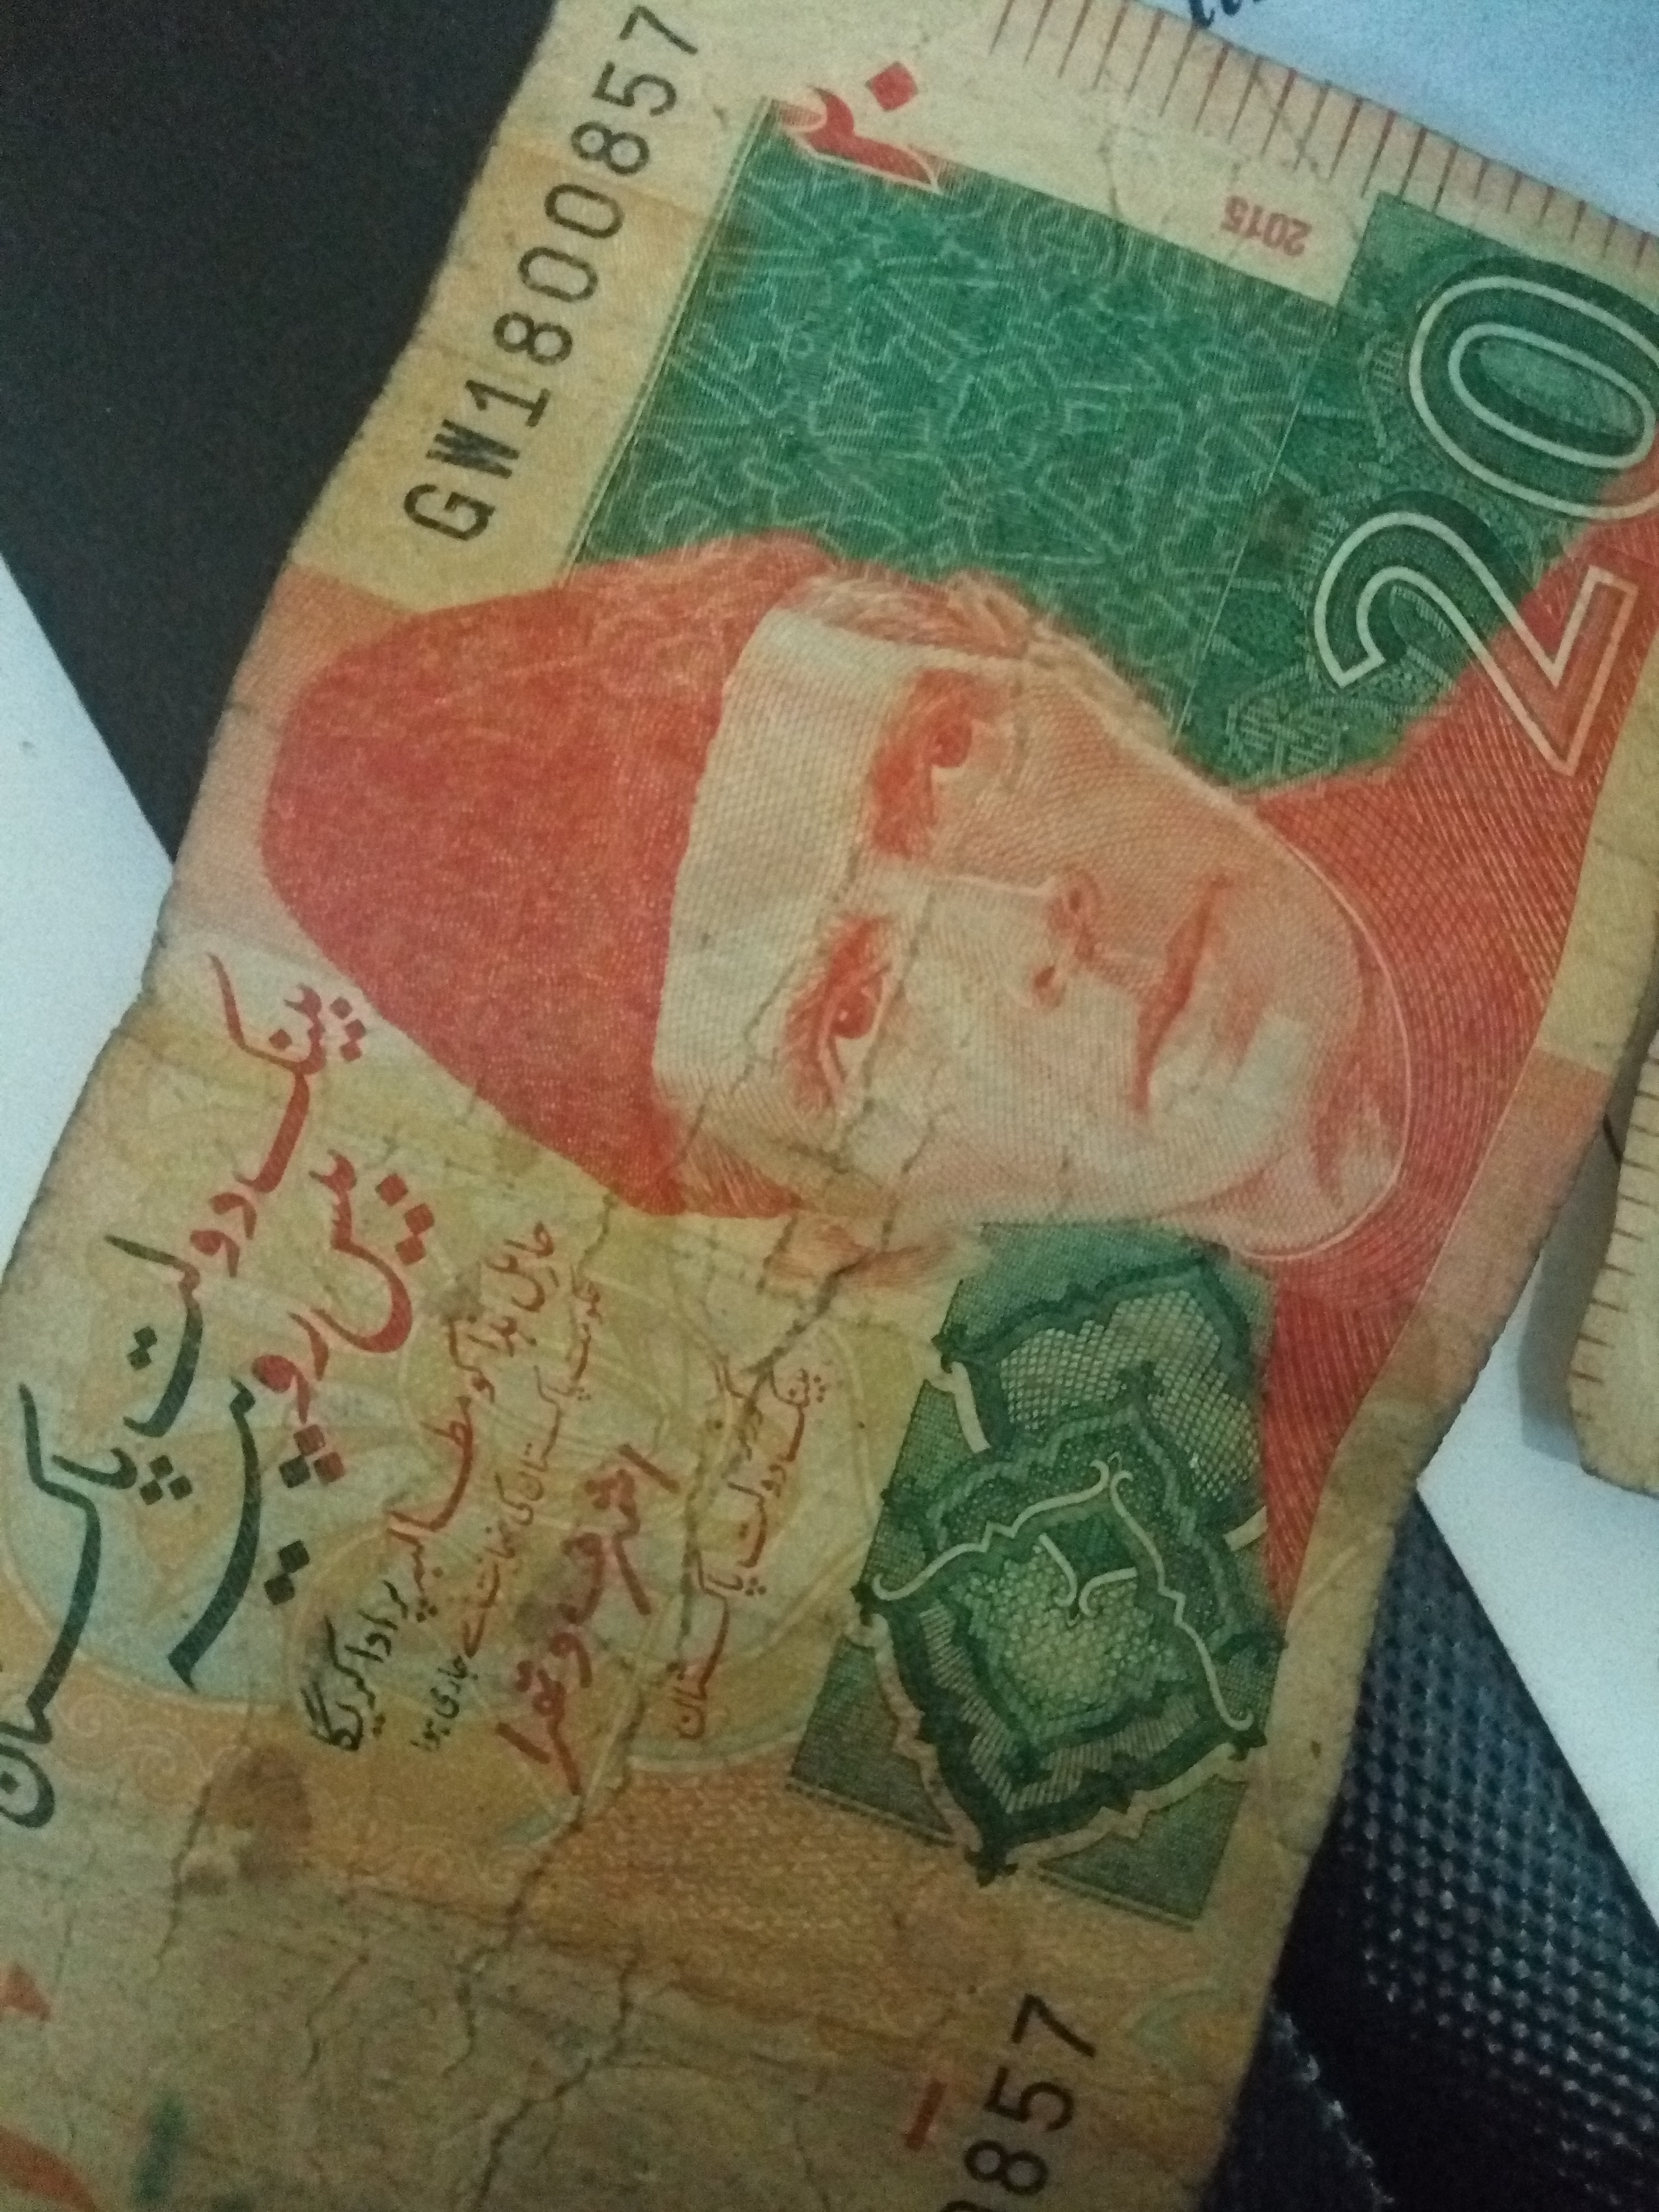20 rupee: (44, 85, 1649, 2151)
